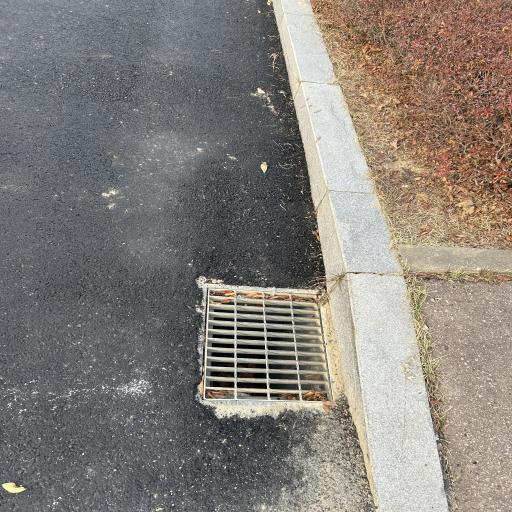debris: (206, 390, 229, 398), (303, 392, 325, 400), (240, 292, 261, 299), (211, 299, 231, 305), (269, 295, 289, 300), (294, 295, 309, 301), (280, 394, 297, 399), (226, 291, 235, 297)
drain: (204, 288, 335, 401)
